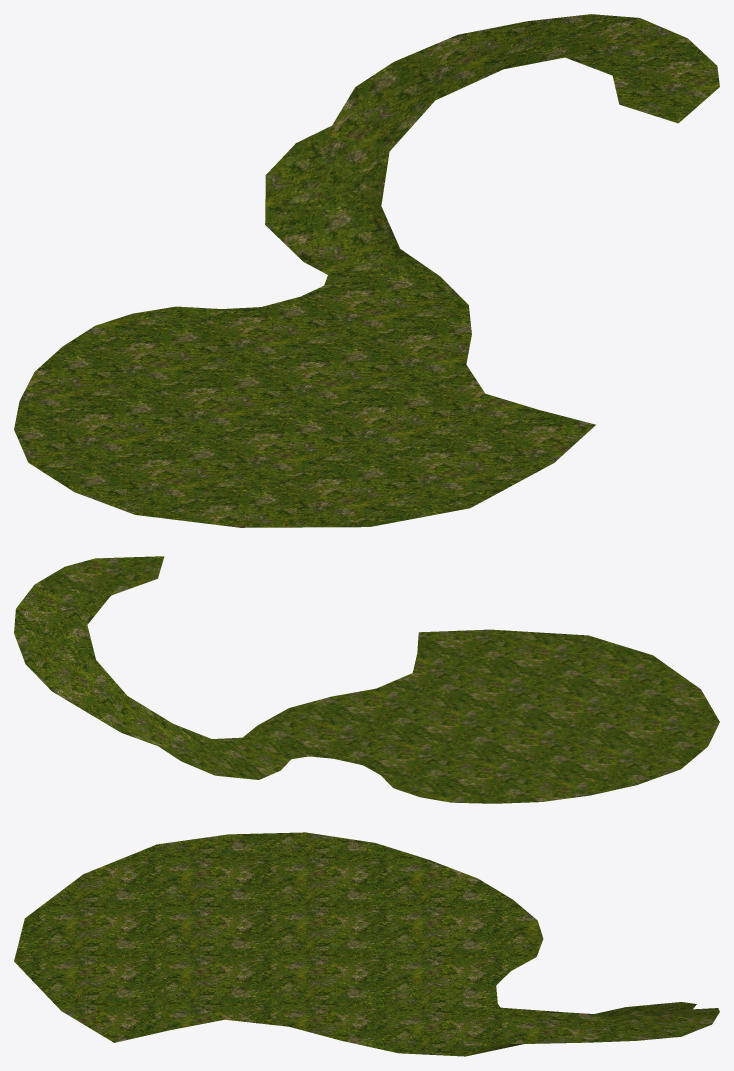
Rendered from OVERHILL_A_01_LINE135.fbx.
3 renders of one model, top to bottom at view 1: azimuth 30°, elevation 25°; view 2: azimuth 150°, elevation 25°; view 3: azimuth 270°, elevation 25°, orthographic. The views are drawn at different scales.
Visible parts, largest first — view 1: OVERHILL_A_01_LINE135; view 2: OVERHILL_A_01_LINE135; view 3: OVERHILL_A_01_LINE135.
Boxes of the visible parts, bbox=[...] form: OVERHILL_A_01_LINE135: bbox=[14, 14, 719, 527]; OVERHILL_A_01_LINE135: bbox=[14, 556, 719, 803]; OVERHILL_A_01_LINE135: bbox=[14, 832, 719, 1056].
Bounding box in the file's own units: 143842 × 26883 × 122197.
Materials: 1 (1 with a texture image).
